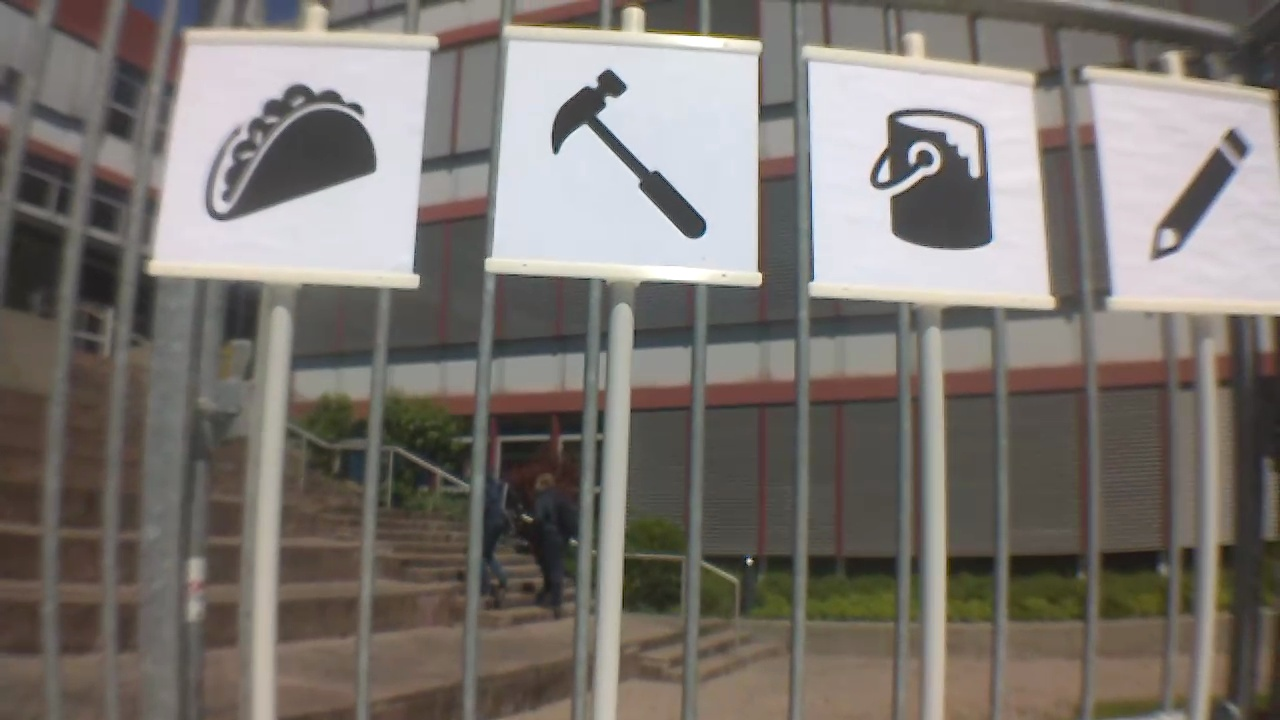bucket: (871, 104, 989, 243)
hammer: (536, 65, 709, 241)
pencil: (1151, 125, 1253, 259)
taco: (208, 93, 385, 219)
